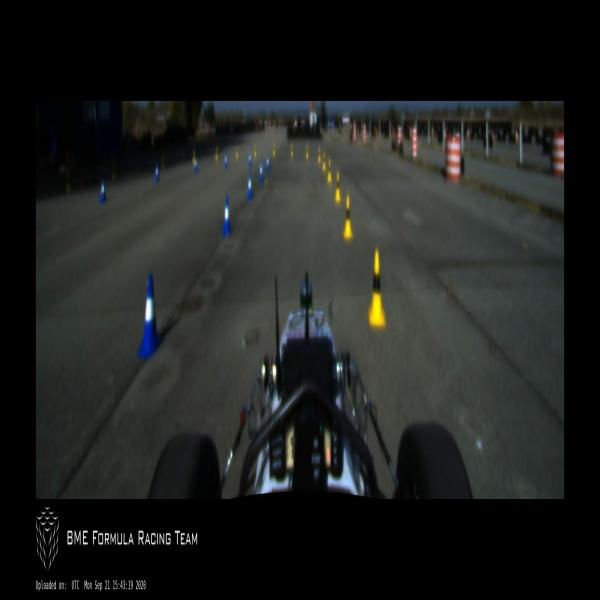blue_cone: (136, 272, 163, 360), (222, 196, 232, 237), (100, 174, 106, 204), (247, 172, 253, 200), (258, 160, 264, 182), (154, 161, 160, 182), (266, 154, 270, 172), (194, 154, 198, 172), (224, 153, 228, 169), (248, 150, 252, 166)
yellow_cone: (368, 248, 386, 327), (342, 194, 353, 240), (335, 172, 341, 203), (327, 160, 332, 183), (322, 152, 326, 171), (290, 141, 294, 158), (235, 144, 239, 159), (192, 150, 196, 164), (254, 143, 258, 157), (306, 143, 309, 161), (273, 141, 276, 158), (318, 147, 321, 163), (215, 146, 218, 160)
